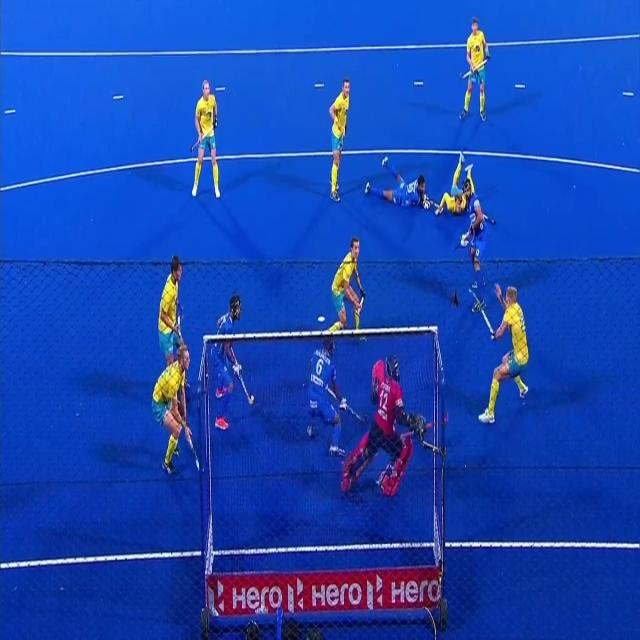ball: (316, 313, 328, 329)
